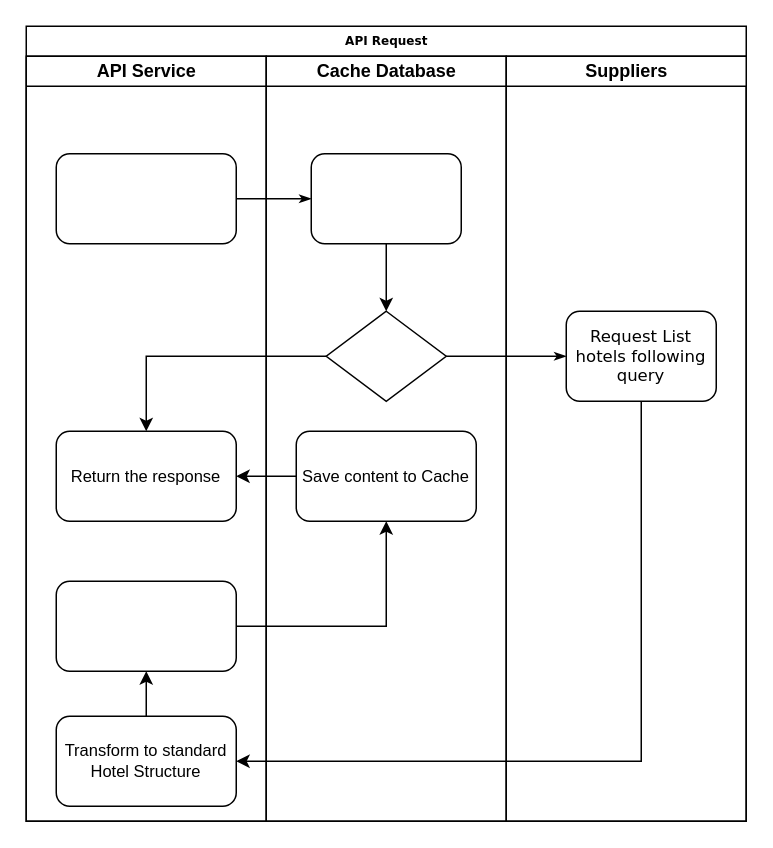
Image size: 773x848. Some labels were removed from this diagram. The shapes that lost their labels are listed below. From the top down, each one's centre as x and y in pixels, then its label:
[145,198]: Search for Hotels
[385,198]: Looking for Cached Hotels
[385,355]: Exist In Cache?
[145,625]: Merge Hotel Data
